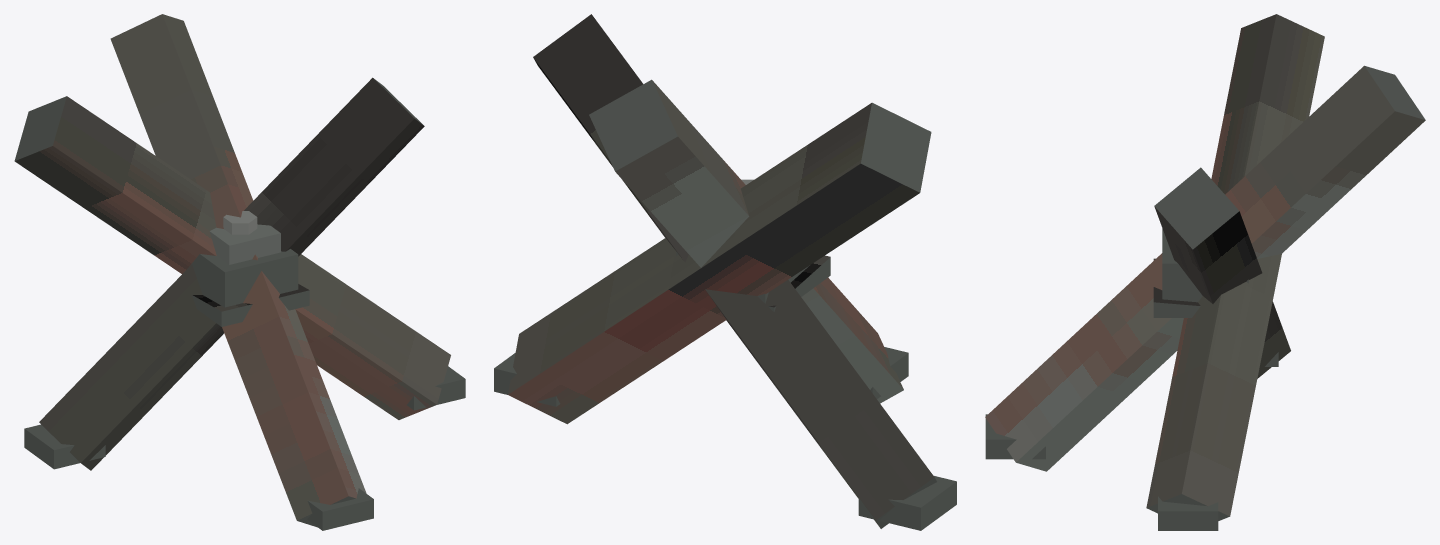
The model's file is Building_AncientTankTrap__C.glb.
The picture shows the model from 3 angles, left to right: view 1: azimuth 30°, elevation 25°; view 2: azimuth 150°, elevation 25°; view 3: azimuth 270°, elevation 25°; orthographic projection. The views are drawn at different scales.
Visible parts, largest first — view 1: AncientTankTrap__C; view 2: AncientTankTrap__C; view 3: AncientTankTrap__C.
Boxes of the visible parts, x1=… form: AncientTankTrap__C: x1=14, y1=14, x2=465, y2=530; AncientTankTrap__C: x1=494, y1=14, x2=956, y2=530; AncientTankTrap__C: x1=985, y1=14, x2=1425, y2=530.
Bounding box in the file's own units: 1.05 × 1.04 × 1.02.
1 material, 1 textured.
